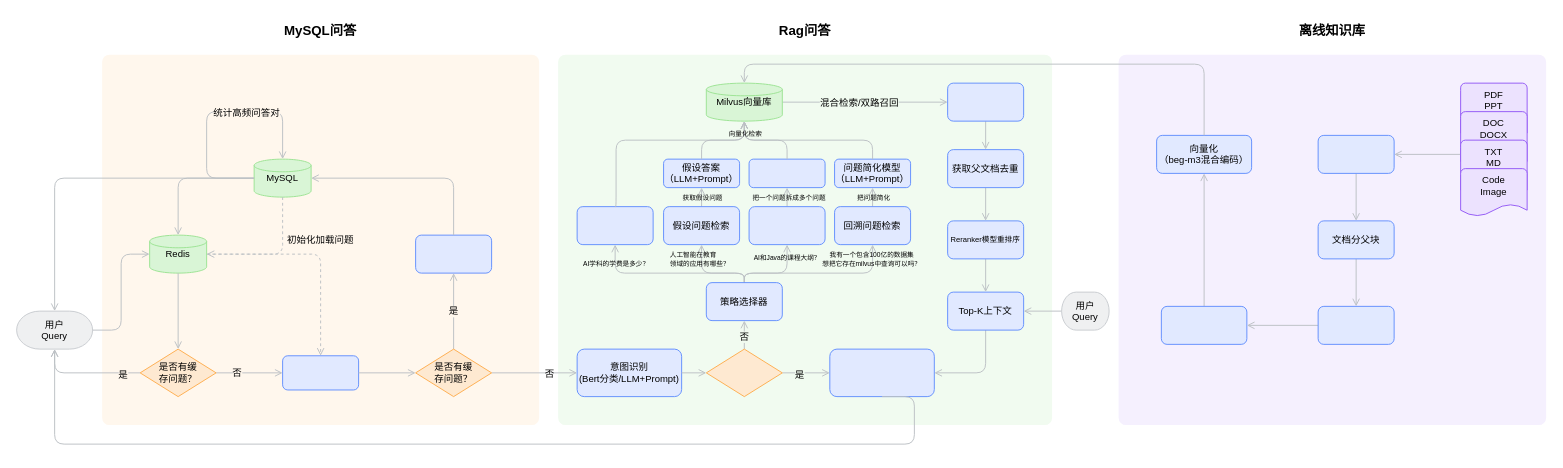
The diagram is 1563 pixels wide and 468 high, and some of its shapes have lost their labels. The centre of each missing label's shape, as x and y in pixels:
"BM25检索" belongs at (x=320, y=372).
"LangChain框架处理" belongs at (x=1355, y=153).
"LLM （商用API/本地化部署）" belongs at (x=881, y=372).
"召回粗排文档" belongs at (x=985, y=101).
"子块元数据处理 （父块放入元数据）" belongs at (x=1203, y=324).
"子查询分解 （LLM+Prompt）" belongs at (x=786, y=173).
"子问题检索" belongs at (x=786, y=225).
"文档分子块" belongs at (x=1355, y=324).
"根据问题查询 MySQL中答案" belongs at (x=453, y=253).
"直接检索" belongs at (x=614, y=225).
"通用问题？" belongs at (x=743, y=372).
